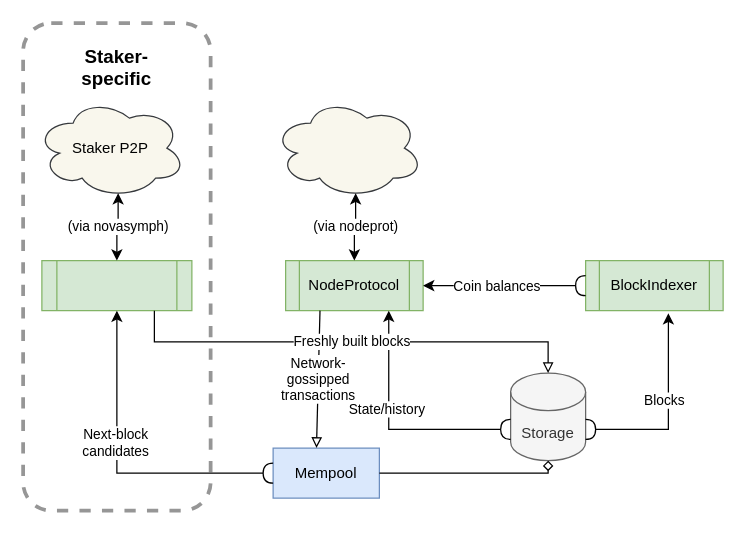
Image size: 745x534. Some labels were removed from this diagram. Here are the shapes that lost their labels. From the top down, the centre of each, then its label:
At point 347,147: "Auditor P2P".
At point 116,285: "StakerProtocol".
